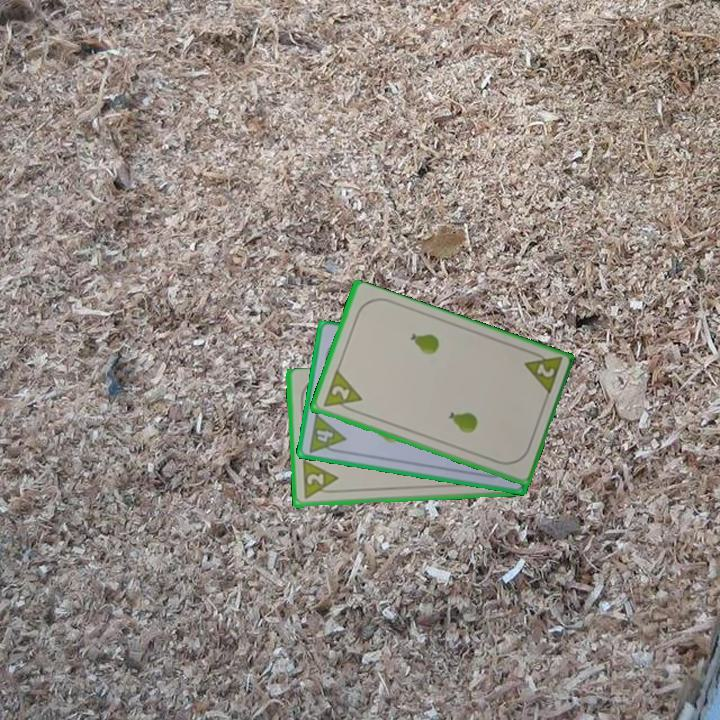2p: (520, 346, 565, 398), (319, 368, 364, 416), (299, 458, 341, 502)
4p: (305, 411, 348, 457)
